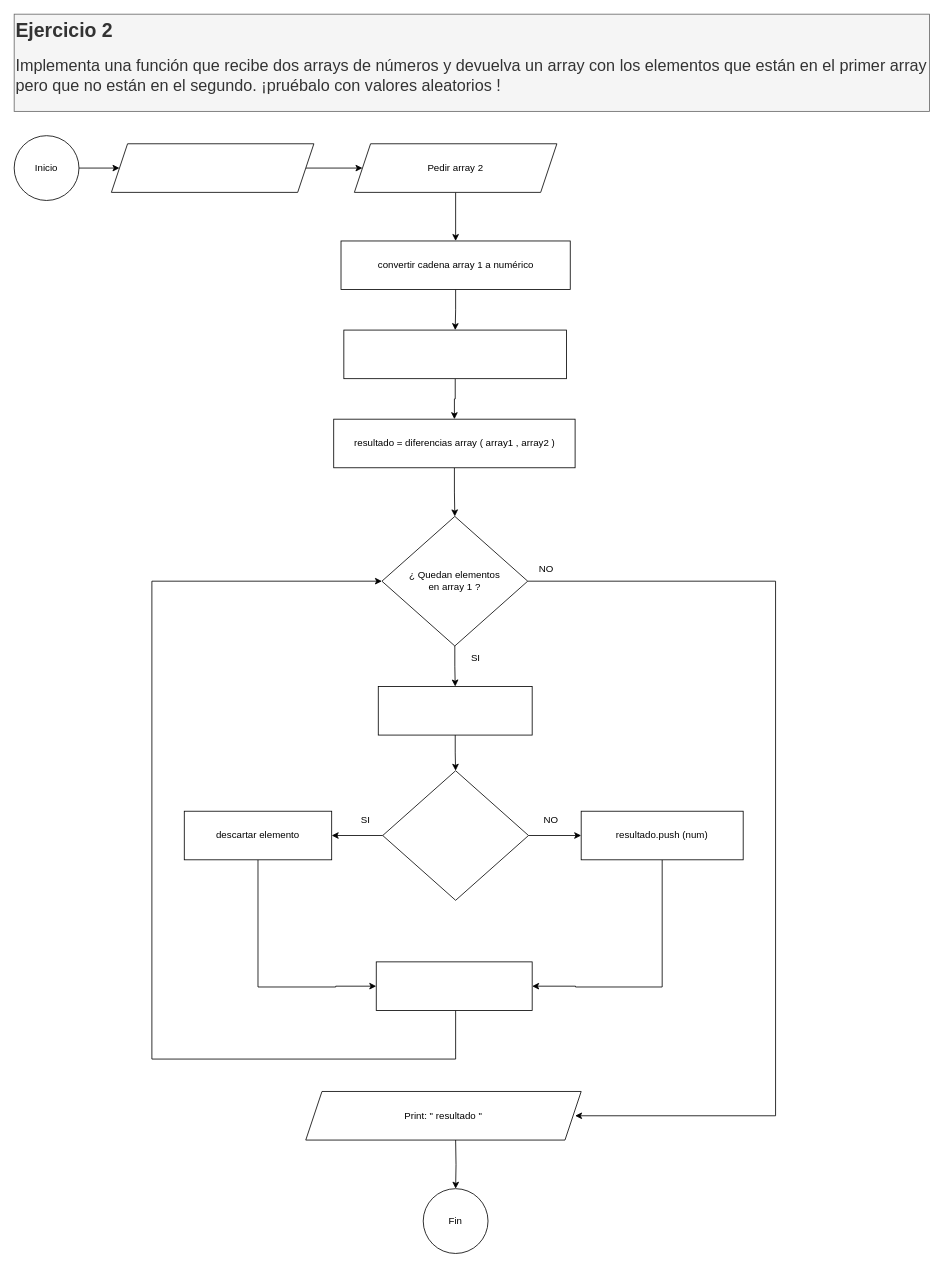
Some shapes in this 944 by 1268 pixel diagram are drawn without their labels. The box of each missing label's shape, as (x1, y1, x2, y2) in pixels:
avanzar iteracción: (375, 961, 532, 1010)
convertir cadena array 2 a numérico: (343, 329, 567, 379)
Leer siguiente elemento: (377, 686, 532, 735)
Pedir array 1: (111, 143, 314, 192)
¿ array 2 incluye elemento ?: (382, 770, 529, 900)
